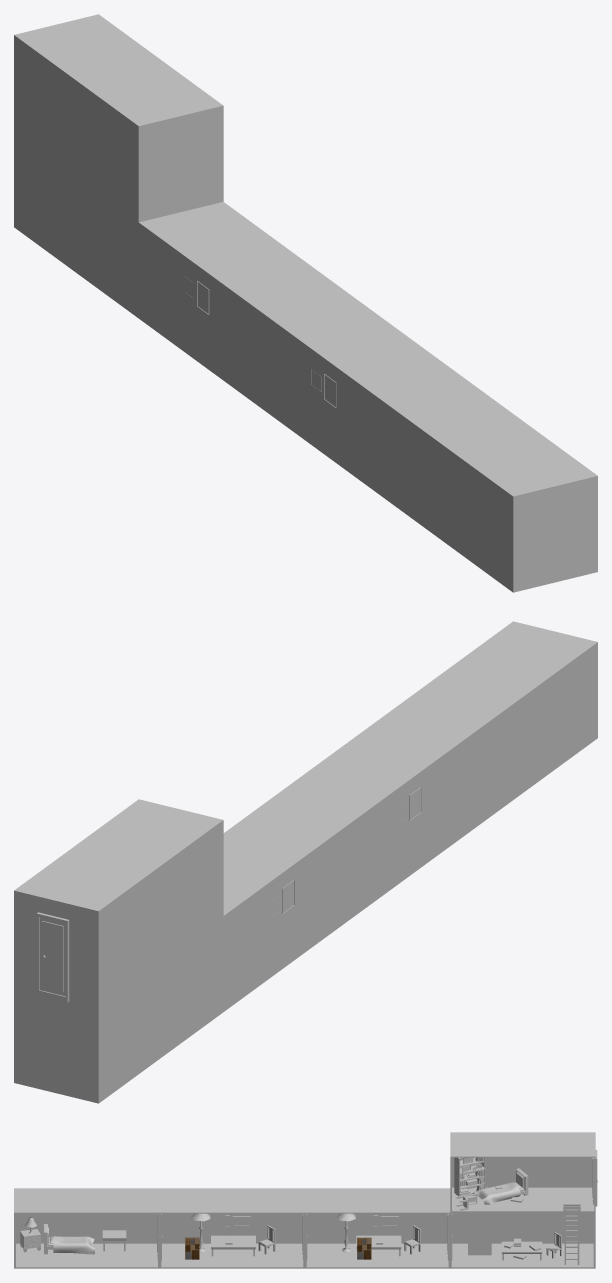
Rendered from Sample Building.fbx.
The picture shows the model from 3 angles, top to bottom: view 1: azimuth 30°, elevation 25°; view 2: azimuth 150°, elevation 25°; view 3: azimuth 270°, elevation 25°; orthographic projection. The views are drawn at different scales.
Visible parts, largest first — view 1: room_1, room_4, room_3, room_2, room_5; view 2: room_4, room_2, room_1, room_5, room_3, polySurface147; view 3: room_3, room_2, room_1, room_4, room_5, bedroom_bed, update_for_scene_1:bedroom_bed, pPlane19, update_for_scene_1:update_for_scene_1:update_for_scene_1:pol, update_for_scene_1:livingroom_long_table, update_for_scene_1:update_for_scene_1:pCube80, update_for_scene_1:livingroom_long_table4 (+13 smaller).
Part boxes in pixels (x1,y1,x2,y2): room_1: (388, 384, 597, 592); room_4: (14, 14, 223, 222); room_3: (138, 202, 347, 409); room_2: (263, 293, 472, 500); room_5: (14, 131, 138, 318); room_4: (14, 799, 223, 1007); room_2: (264, 712, 473, 920); room_1: (389, 621, 597, 828); room_5: (14, 916, 223, 1103); room_3: (223, 804, 348, 1011); polySurface147: (36, 912, 69, 1002); room_3: (304, 1188, 450, 1268); room_2: (159, 1188, 304, 1268); room_1: (14, 1188, 159, 1268); room_4: (450, 1132, 595, 1212); room_5: (450, 1205, 595, 1268); bedroom_bed: (472, 1168, 528, 1204); update_for_scene_1:bedroom_bed: (44, 1224, 94, 1254); pPlane19: (468, 1220, 491, 1255); update_for_scene_1:update_for_scene_1:update_for_scene_1:pol: (454, 1157, 485, 1196); update_for_scene_1:livingroom_long_table: (211, 1235, 255, 1256); update_for_scene_1:update_for_scene_1:pCube80: (564, 1209, 579, 1264); update_for_scene_1:livingroom_long_table4: (356, 1235, 401, 1256).
Size of the model in its own units: 49.22 by 107 by 501.
